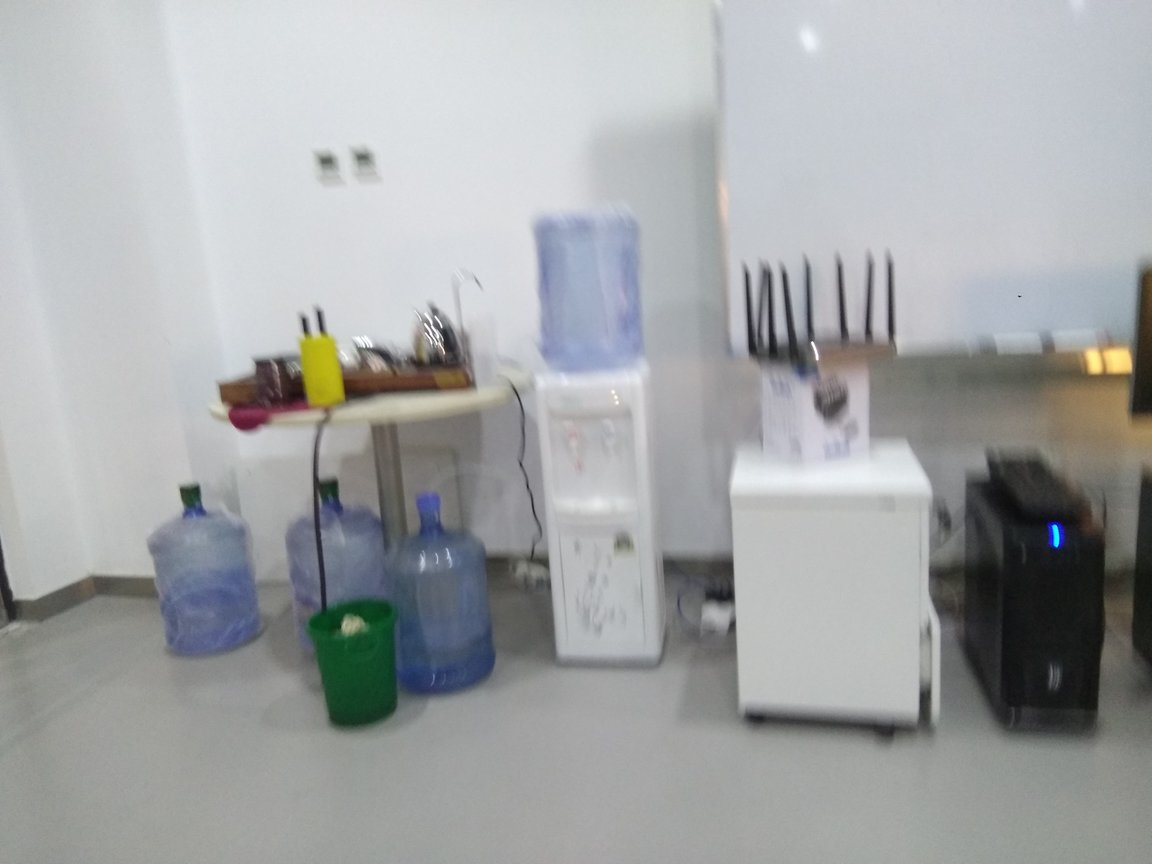computer: (952, 469, 1110, 749)
drawer chest: (735, 427, 963, 766)
scuttlebutt: (523, 208, 661, 391), (392, 492, 496, 700), (283, 478, 395, 666), (151, 480, 262, 659)
water dispenser: (513, 350, 661, 673)
